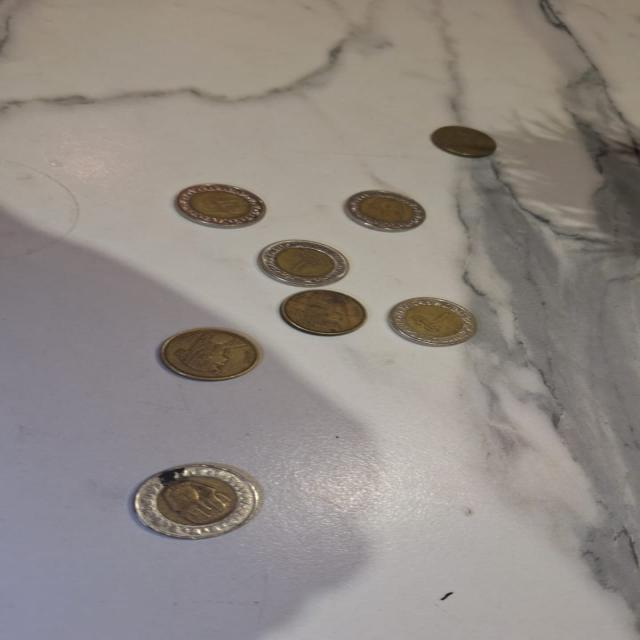Half Pound: (140, 324, 272, 386), (273, 284, 377, 345), (426, 122, 501, 164)
One Pound: (120, 454, 282, 544), (387, 292, 482, 355), (170, 178, 272, 232), (256, 234, 352, 291), (340, 185, 429, 239)
